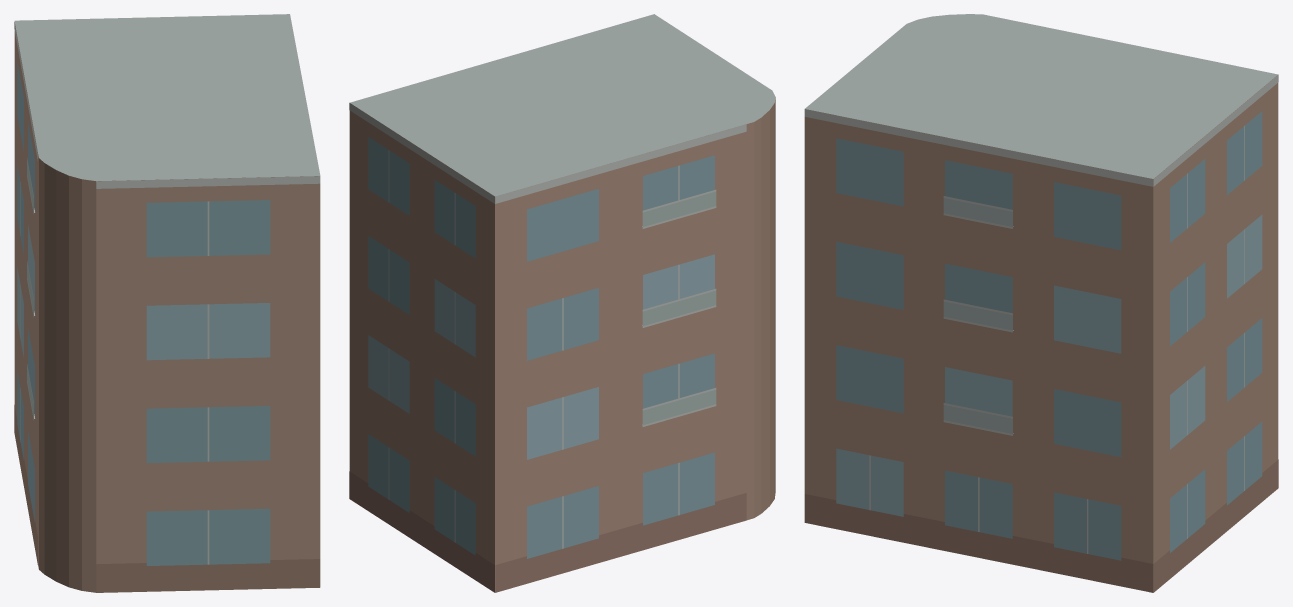
File: survey-upis-32727967.glb
3 views of the same model, side by side, from view 1: azimuth 30°, elevation 25°; view 2: azimuth 150°, elevation 25°; view 3: azimuth 270°, elevation 25° (orthographic). The views are drawn at different scales.
Visible parts, largest first — view 1: survey-upis-32727967.tmp; view 2: survey-upis-32727967.tmp; view 3: survey-upis-32727967.tmp.
Part boxes in pixels (x1,y1,x2,y2): survey-upis-32727967.tmp: [14, 14, 320, 592]; survey-upis-32727967.tmp: [349, 14, 775, 592]; survey-upis-32727967.tmp: [804, 14, 1278, 592].
Bounding box in the file's own units: 11.05 × 12.9 × 13.4.
